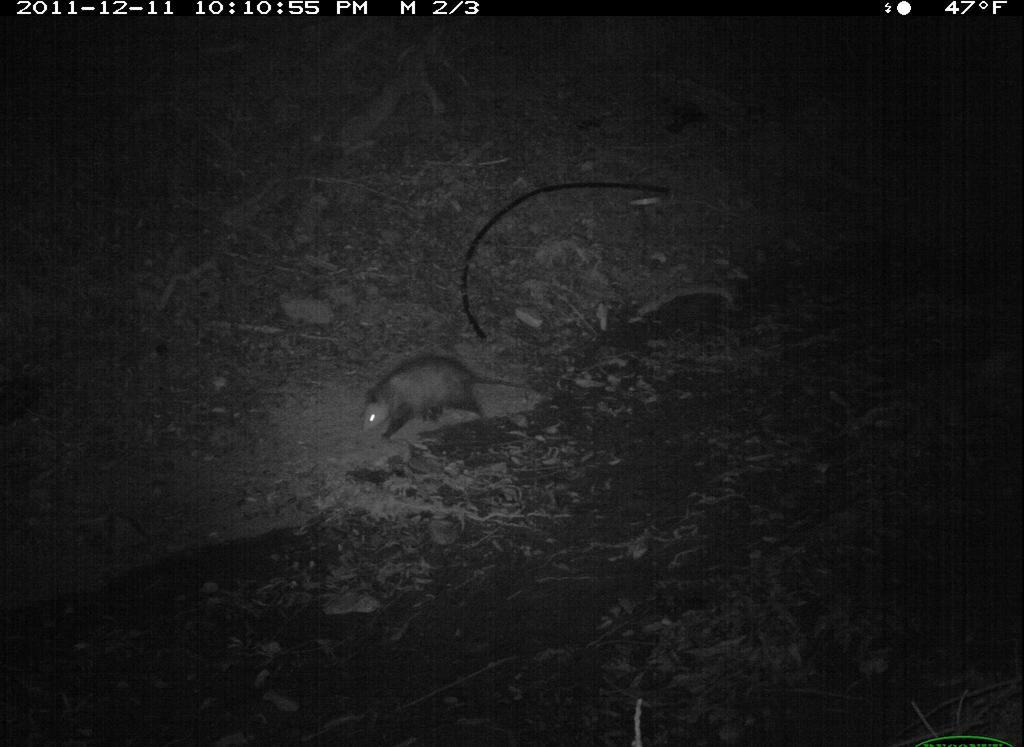opossum: (350, 349, 529, 455)
